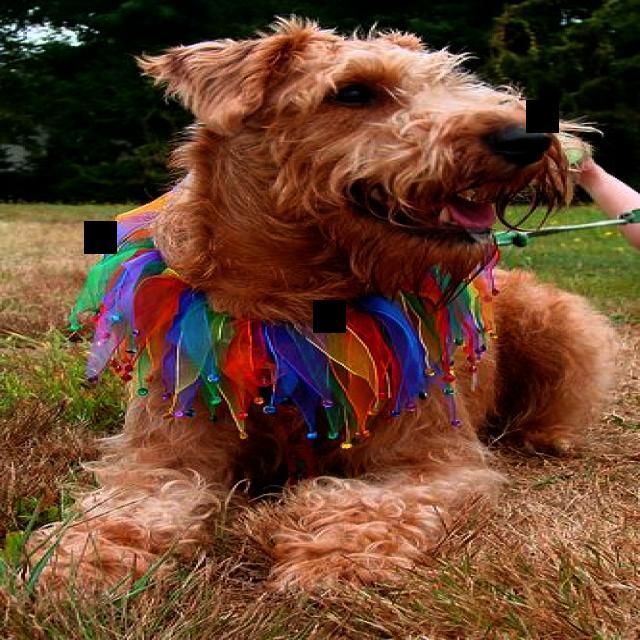adult_dog: (5, 11, 637, 636)
